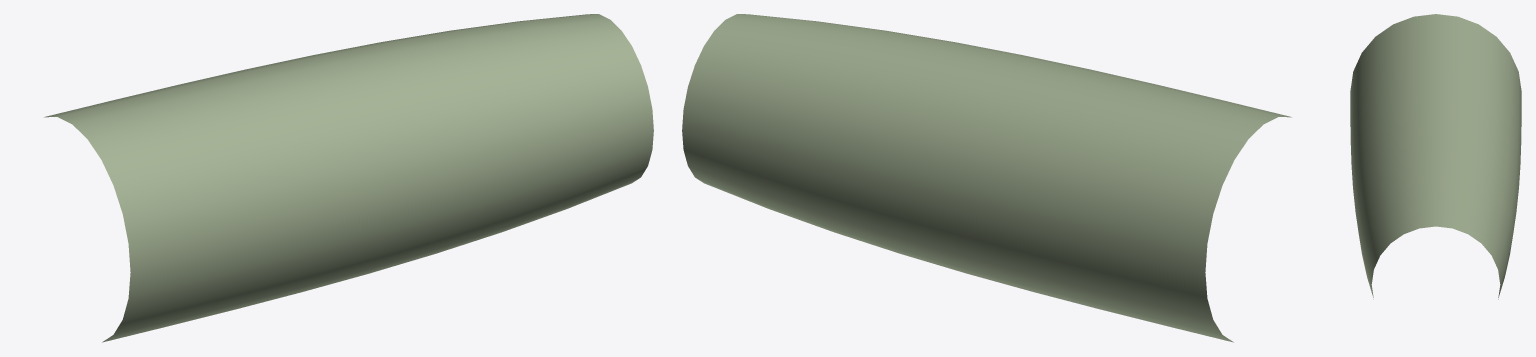
The model's file is bullet_napalm_fuel.glb.
3 renders of one model, left to right at view 1: azimuth 30°, elevation 25°; view 2: azimuth 150°, elevation 25°; view 3: azimuth 270°, elevation 25°, orthographic. The views are drawn at different scales.
Parts seen in each view (by area): view 1: Bullet_Napalm_Fuel_Cell; view 2: Bullet_Napalm_Fuel_Cell; view 3: Bullet_Napalm_Fuel_Cell.
Part boxes in pixels (x1,y1,x2,y2): Bullet_Napalm_Fuel_Cell: (44,14,653,342); Bullet_Napalm_Fuel_Cell: (682,14,1291,342); Bullet_Napalm_Fuel_Cell: (1350,14,1521,299).
Bounding box in the file's own units: 0.24 × 0.09 × 0.09.
